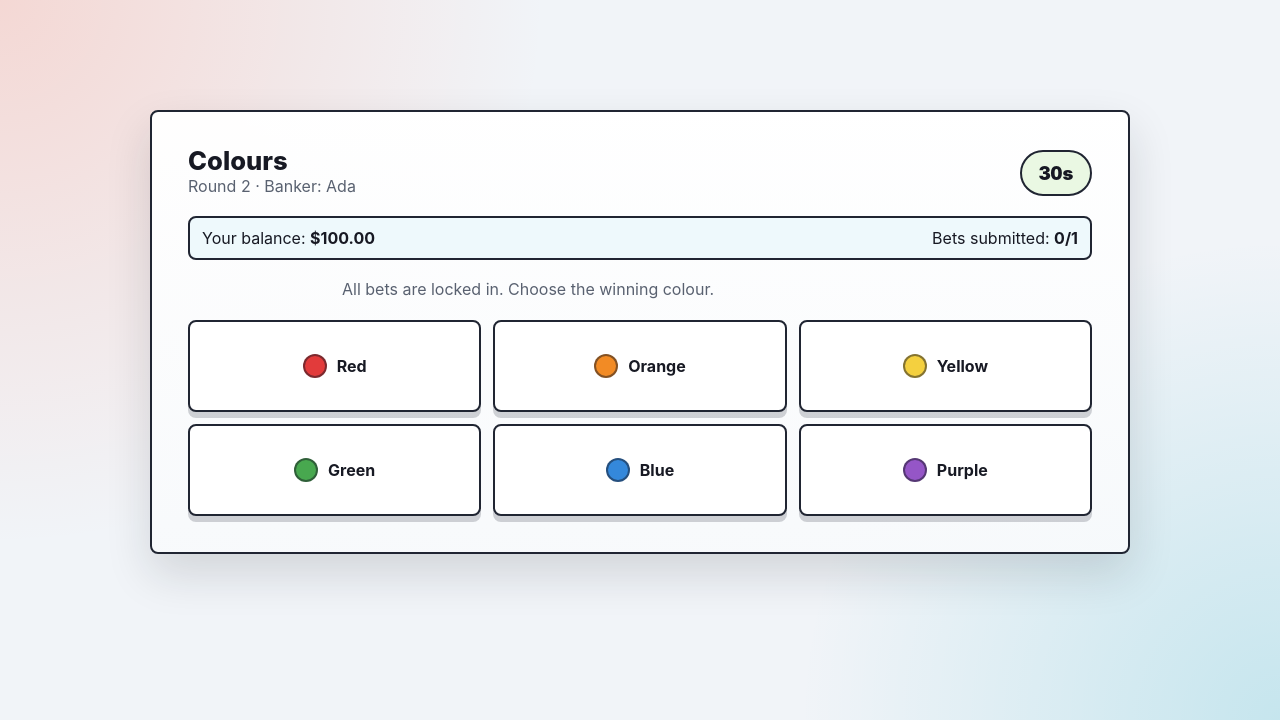
Test: ColoursRoundScreen › lets the banker choose the winning colour after bets lock
Click the button "Purple": (945, 470) [799, 424, 1092, 516]
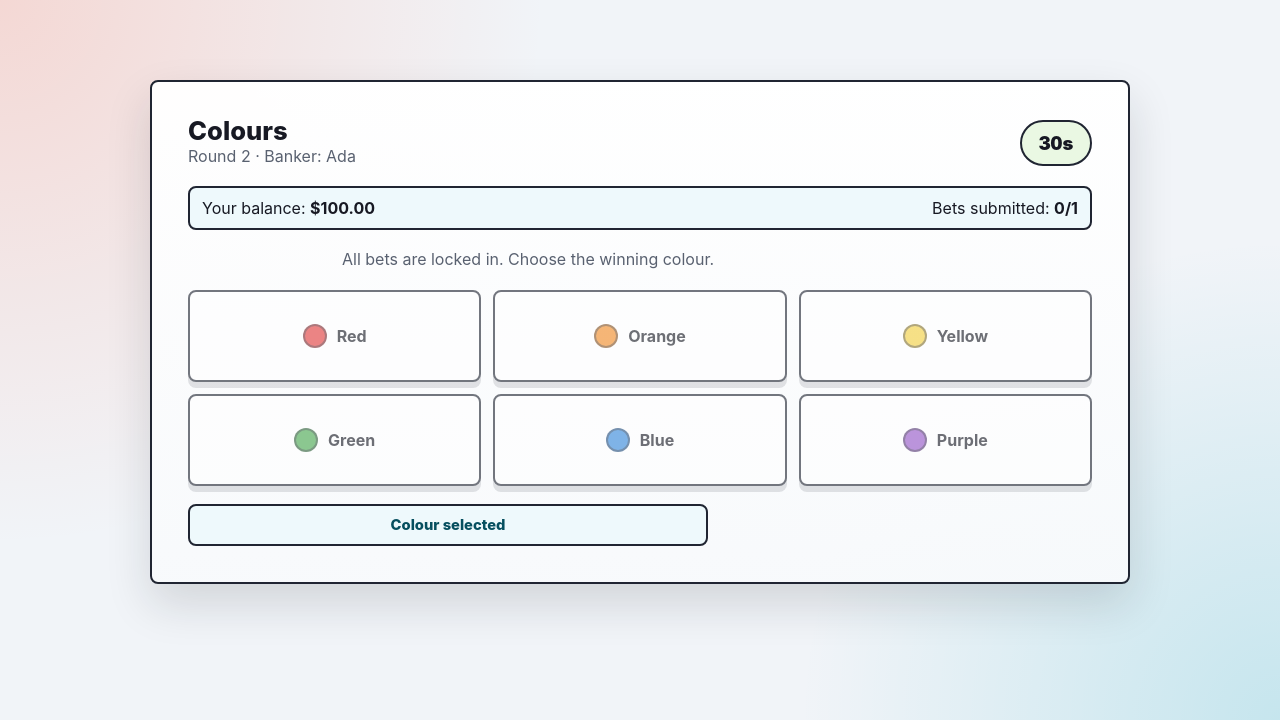
Expected: the text "Colour selected" is shown, [188, 504, 708, 546]
